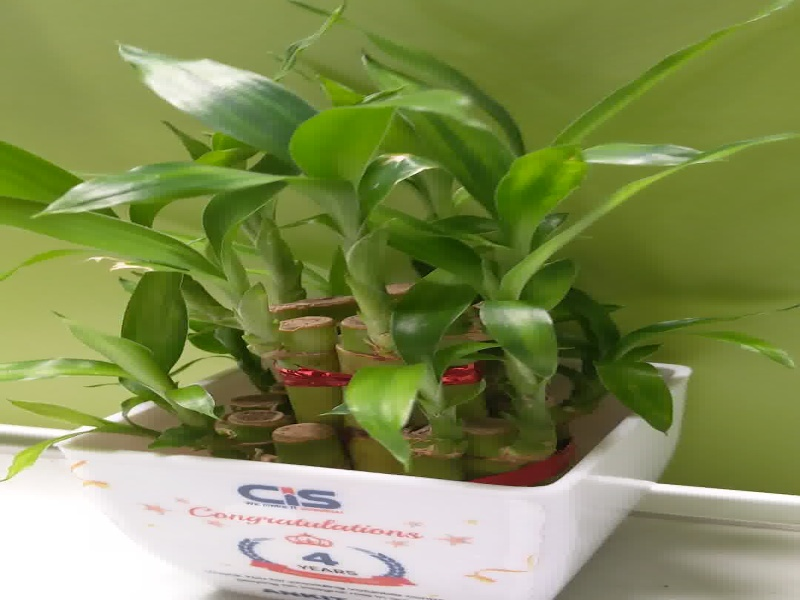bamboo: (5, 9, 799, 600)
